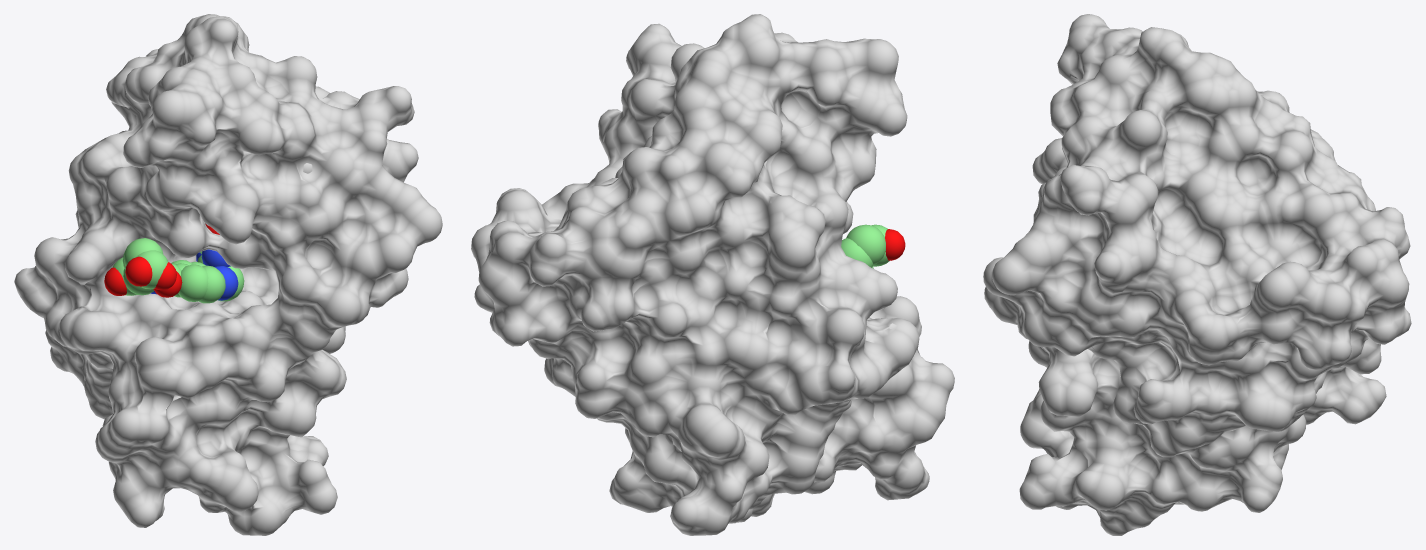
The model's file is JustFolate.dae.
3 views of the same model, side by side, from view 1: azimuth 30°, elevation 25°; view 2: azimuth 150°, elevation 25°; view 3: azimuth 270°, elevation 25° (orthographic). The views are drawn at different scales.
Visible parts, largest first — view 1: subnode_32, subnode_15, subnode_27, subnode_16, subnode_26, subnode_25; view 2: subnode_32, subnode_25; view 3: subnode_32.
Boxes of the visible parts, x1,y1,x2,y2 form: subnode_32: [14, 14, 442, 535]; subnode_15: [178, 264, 208, 301]; subnode_27: [125, 256, 152, 286]; subnode_16: [199, 266, 225, 303]; subnode_26: [136, 250, 168, 289]; subnode_25: [123, 238, 163, 266]; subnode_32: [471, 14, 954, 535]; subnode_25: [846, 224, 885, 264]; subnode_32: [983, 14, 1411, 535].
Size of the model in its own units: 36.52 by 50.69 by 39.72.
